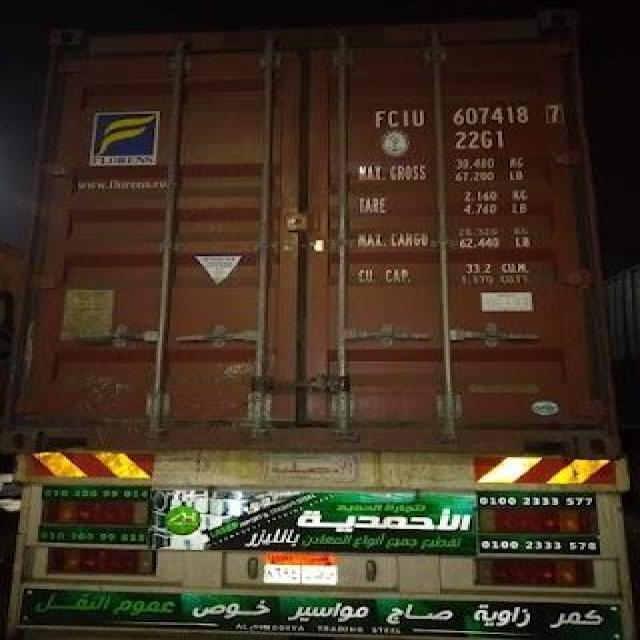ISO: (458, 128, 504, 152)
container_number: (375, 98, 558, 128)
